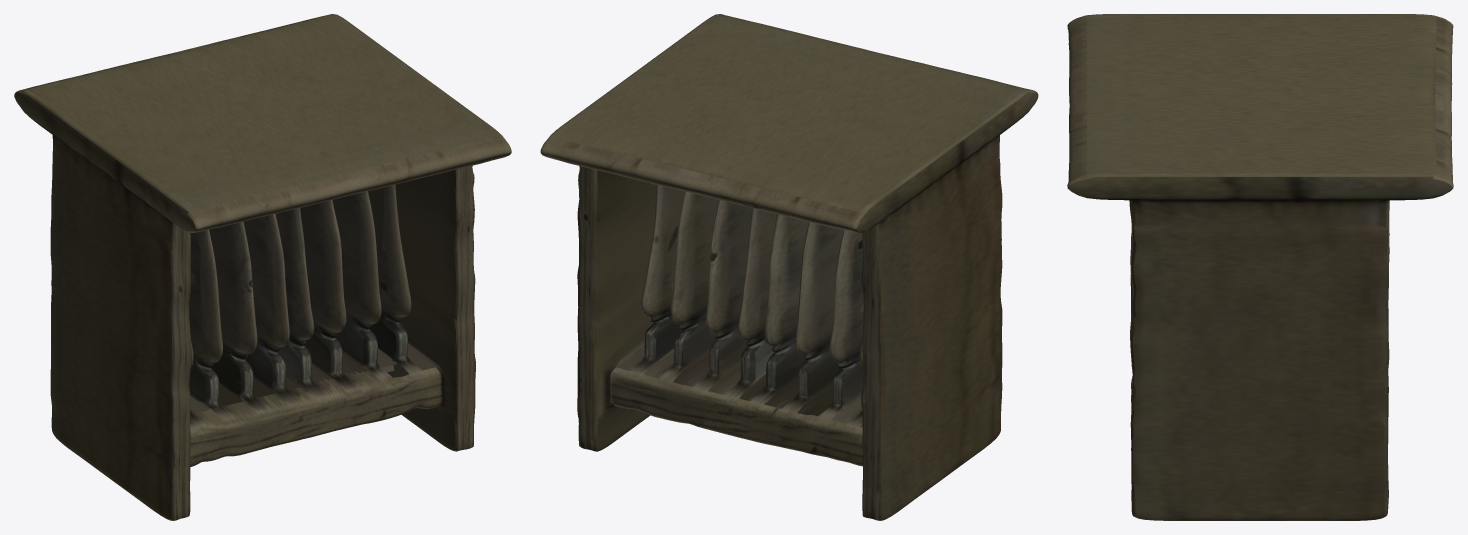
Rendered from feature-porch-rail.glb.
3 views of the same model, side by side, from view 1: azimuth 30°, elevation 25°; view 2: azimuth 150°, elevation 25°; view 3: azimuth 270°, elevation 25° (orthographic). The views are drawn at different scales.
Parts seen in each view (by area): view 1: tmpz0zahfye.ply; view 2: tmpz0zahfye.ply; view 3: tmpz0zahfye.ply.
Part boxes in pixels (<box>): tmpz0zahfye.ply: <box>14,14,511,520</box>; tmpz0zahfye.ply: <box>540,14,1038,520</box>; tmpz0zahfye.ply: <box>1067,14,1453,520</box>.
Size of the model in its own units: 1 by 1 by 1.
Materials: 1 (1 with a texture image).
